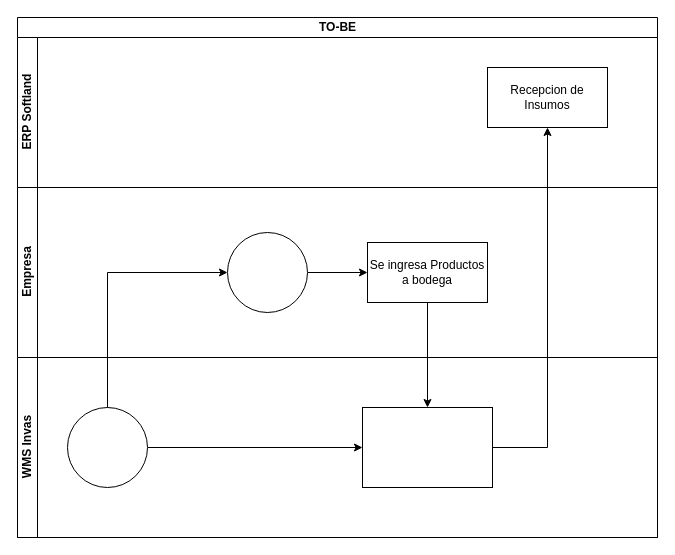
This 675x555 diagram has some shape labels left out. The shapes that lost their labels are listed below. From the top down, each one's centre as x and y in pixels, then its label:
At point (267, 272): "Comienza la operación".
At point (107, 447): "Evento de negocio".
At point (427, 447): "Se hace recepción de ASN y se genera un evento de ajuste de inventario".
